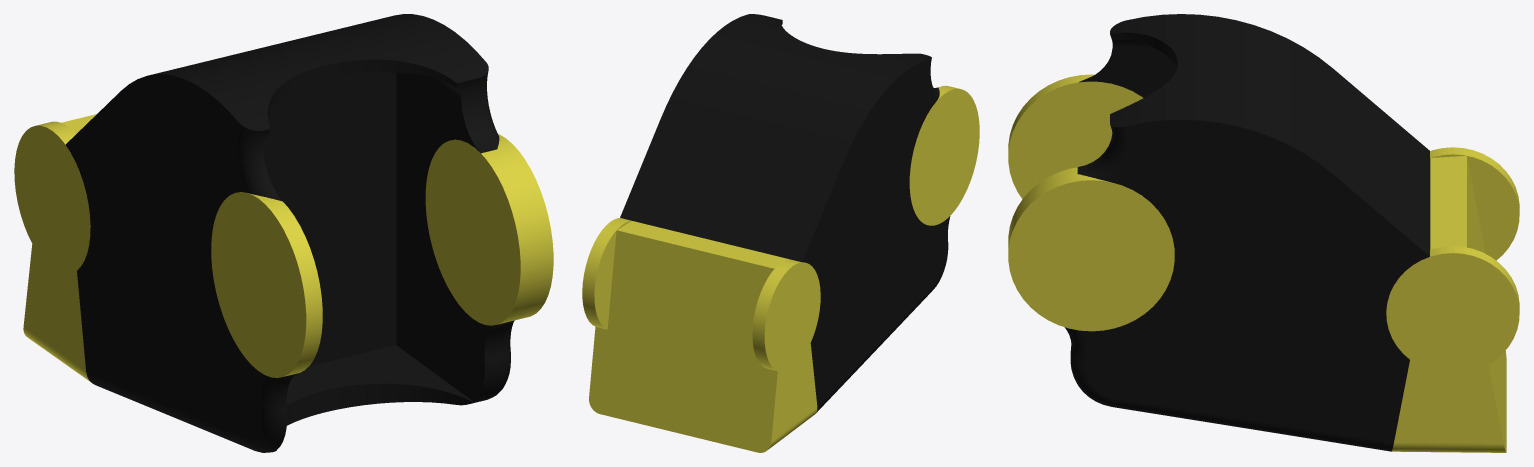
File: thigh_sinister.obj
The picture shows the model from 3 angles, left to right: view 1: azimuth 30°, elevation 25°; view 2: azimuth 150°, elevation 25°; view 3: azimuth 270°, elevation 25°; orthographic projection. The views are drawn at different scales.
Parts seen in each view (by area): view 1: Body4, Body7, Body8, Body6, Body9; view 2: Body4, Body9, Body8, Body6, Body5; view 3: Body4, Body7, Body9, Body5, Body8, Body6.
Part boxes in pixels (x1,y1,x2,y2): Body4: [65, 14, 514, 452]; Body7: [425, 134, 553, 325]; Body8: [211, 192, 322, 377]; Body6: [14, 121, 90, 274]; Body9: [23, 114, 96, 384]; Body4: [620, 14, 950, 412]; Body9: [589, 221, 817, 452]; Body8: [909, 85, 979, 225]; Body6: [752, 259, 820, 371]; Body5: [582, 218, 631, 329]; Body4: [1064, 14, 1430, 451]; Body7: [1008, 167, 1174, 331]; Body9: [1391, 156, 1506, 452]; Body5: [1386, 246, 1519, 373]; Body8: [1008, 74, 1143, 198]; Body6: [1430, 147, 1519, 260].
Bounding box in the file's own units: 0.15 × 0.2241 × 0.3065.
